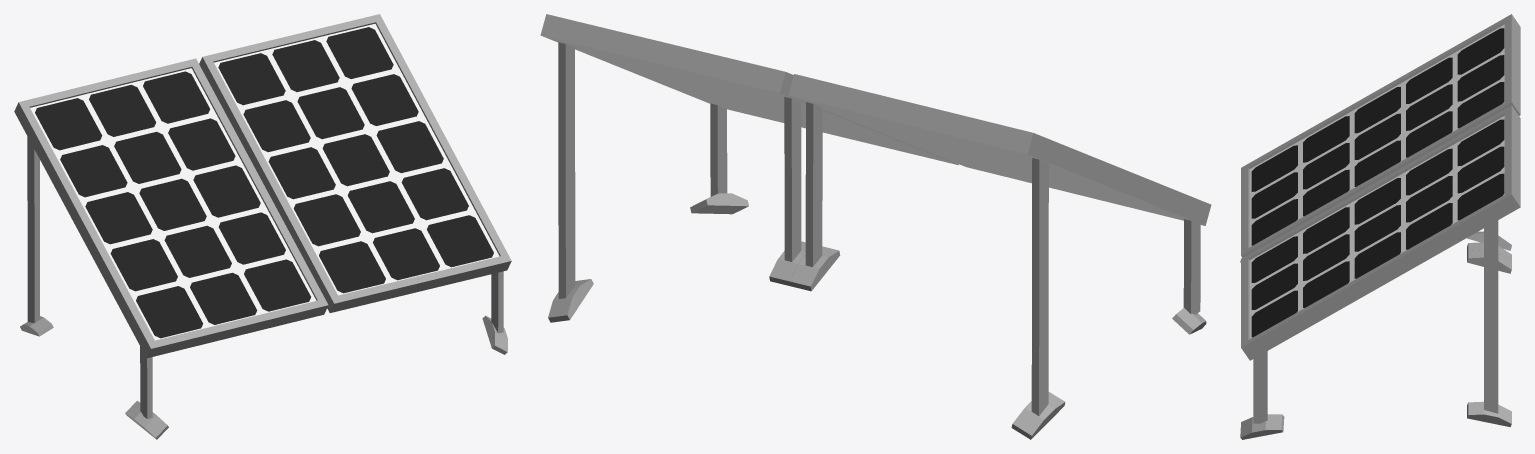
3 renders of one model, left to right at view 1: azimuth 30°, elevation 25°; view 2: azimuth 150°, elevation 25°; view 3: azimuth 270°, elevation 25°, orthographic. The views are drawn at different scales.
Parts seen in each view (by area): view 1: SolarPanel_Roof; view 2: SolarPanel_Roof; view 3: SolarPanel_Roof.
Part boxes in pixels (bbox=[...]): SolarPanel_Roof: bbox=[14, 14, 511, 439]; SolarPanel_Roof: bbox=[540, 14, 1211, 439]; SolarPanel_Roof: bbox=[1240, 14, 1520, 439].
Bounding box in the file's own units: 2.73 × 1.7 × 1.73.
1 material, 1 textured.
